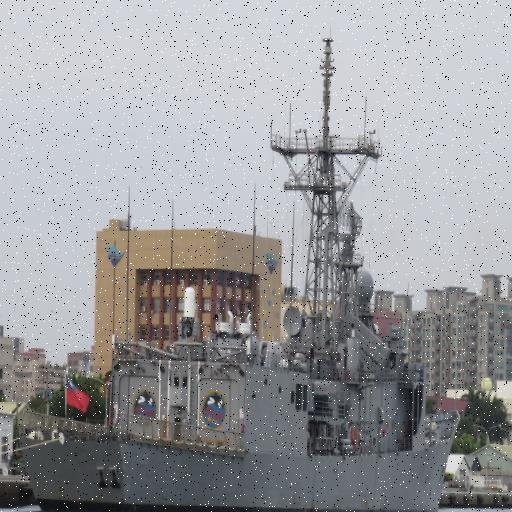Fragata: (11, 23, 466, 512)
